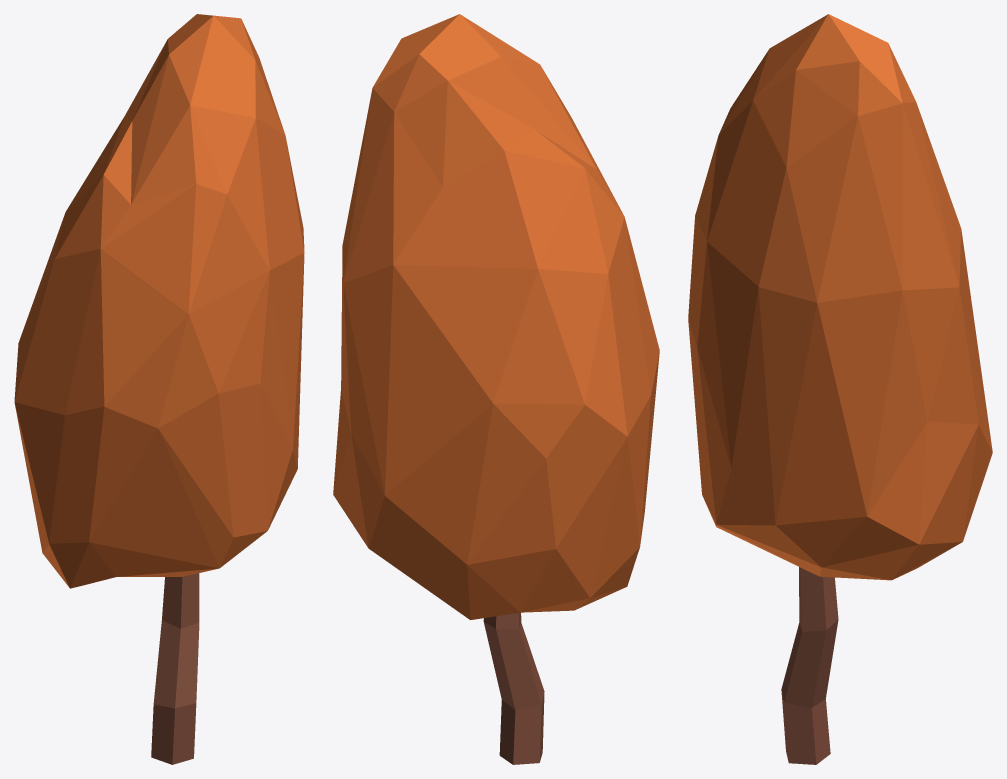
The model's file is Tree_03.fbx.
3 renders of one model, left to right at view 1: azimuth 30°, elevation 25°; view 2: azimuth 150°, elevation 25°; view 3: azimuth 270°, elevation 25°, orthographic. The views are drawn at different scales.
Parts seen in each view (by area): view 1: Tree_03; view 2: Tree_03; view 3: Tree_03.
Part boxes in pixels (bbox=[...]): Tree_03: bbox=[14, 14, 304, 764]; Tree_03: bbox=[333, 14, 659, 764]; Tree_03: bbox=[688, 14, 992, 764].
Size of the model in its own units: 292 by 752 by 270.
